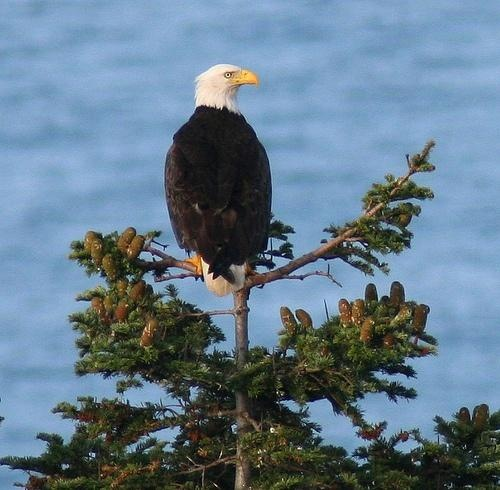bird: (162, 60, 279, 299)
